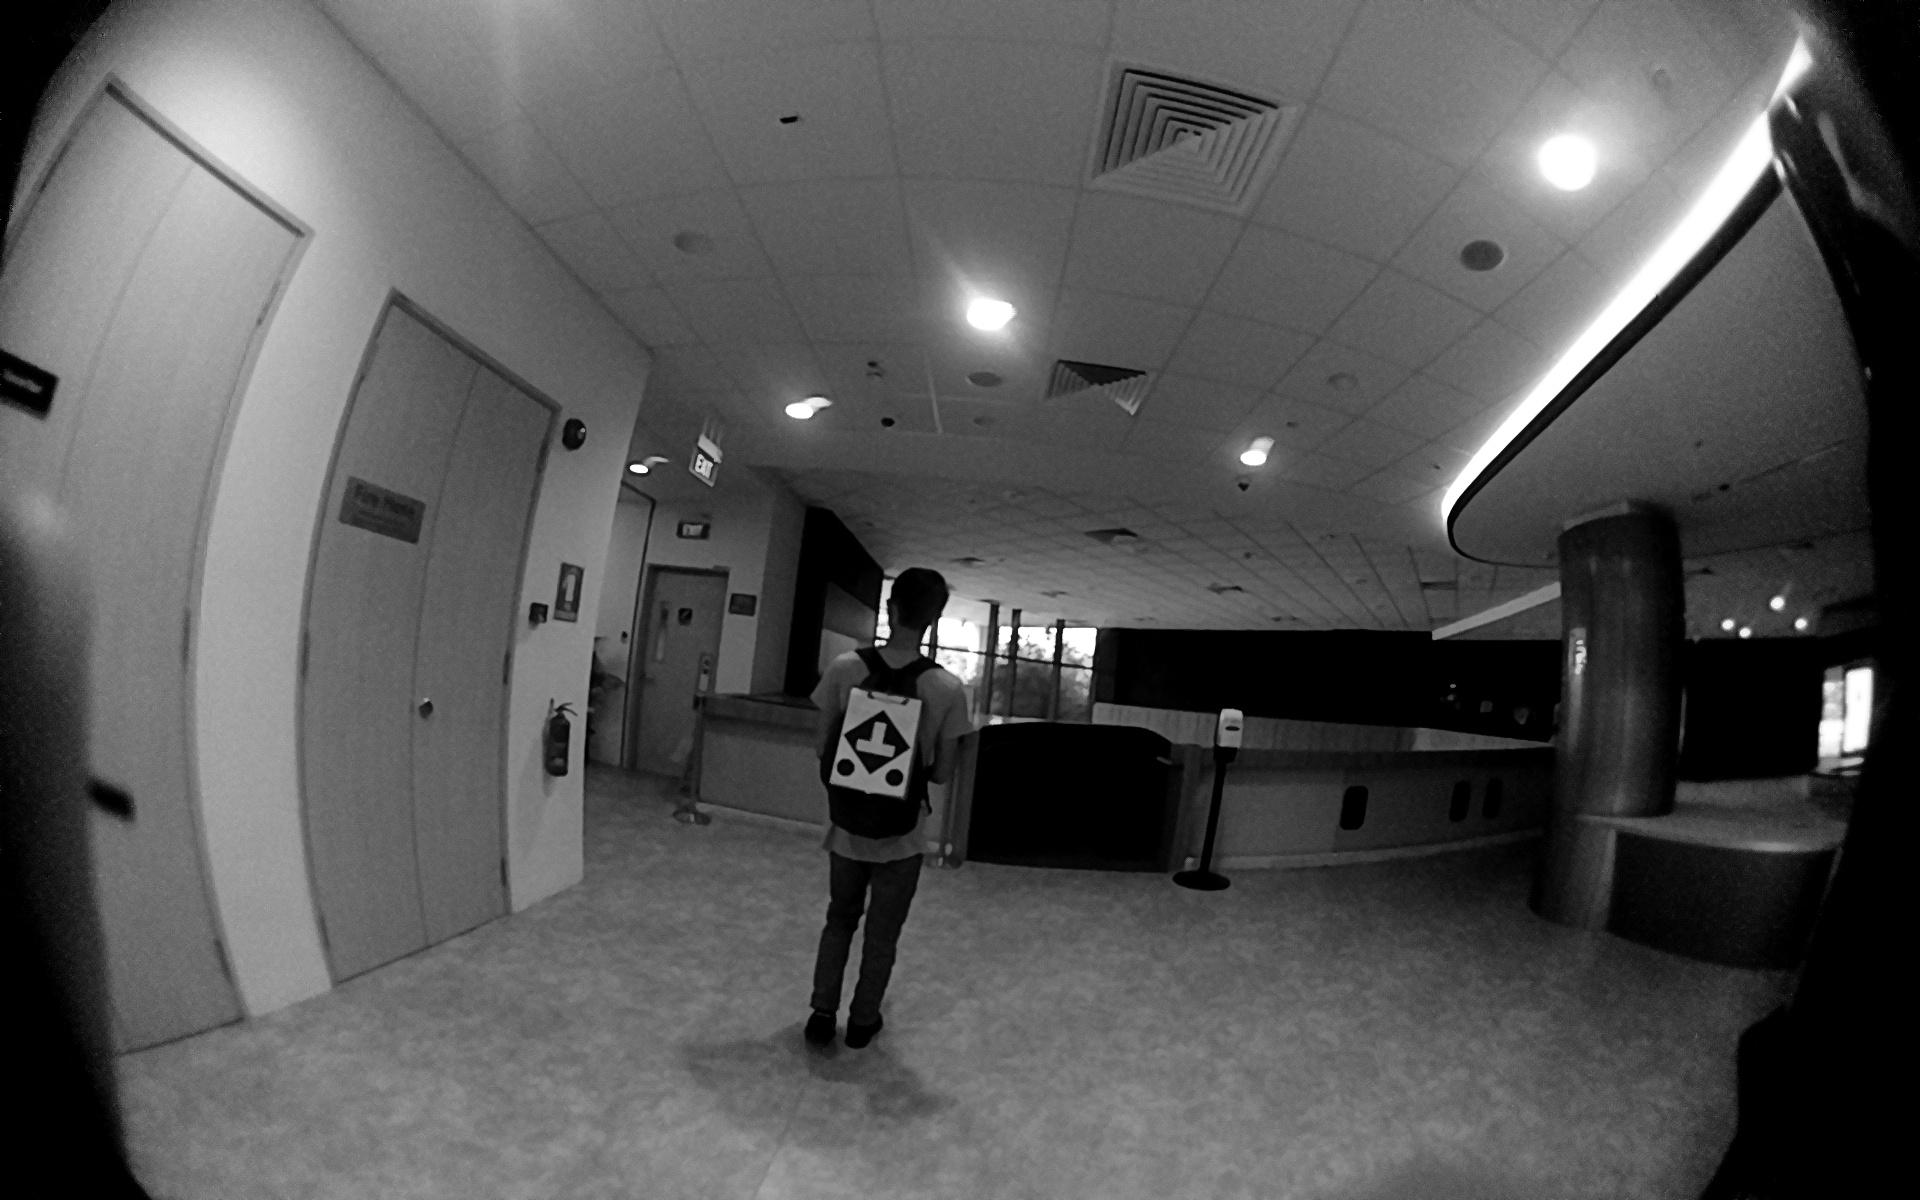continue_forward: (832, 702, 921, 792)
